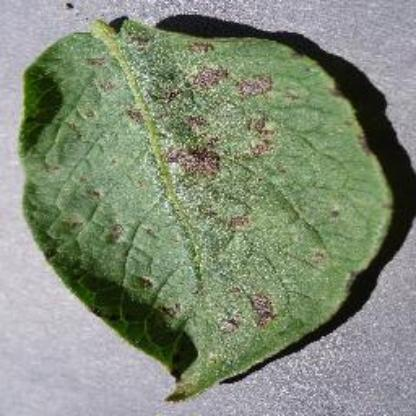Early-Blight: (22, 15, 402, 401)
